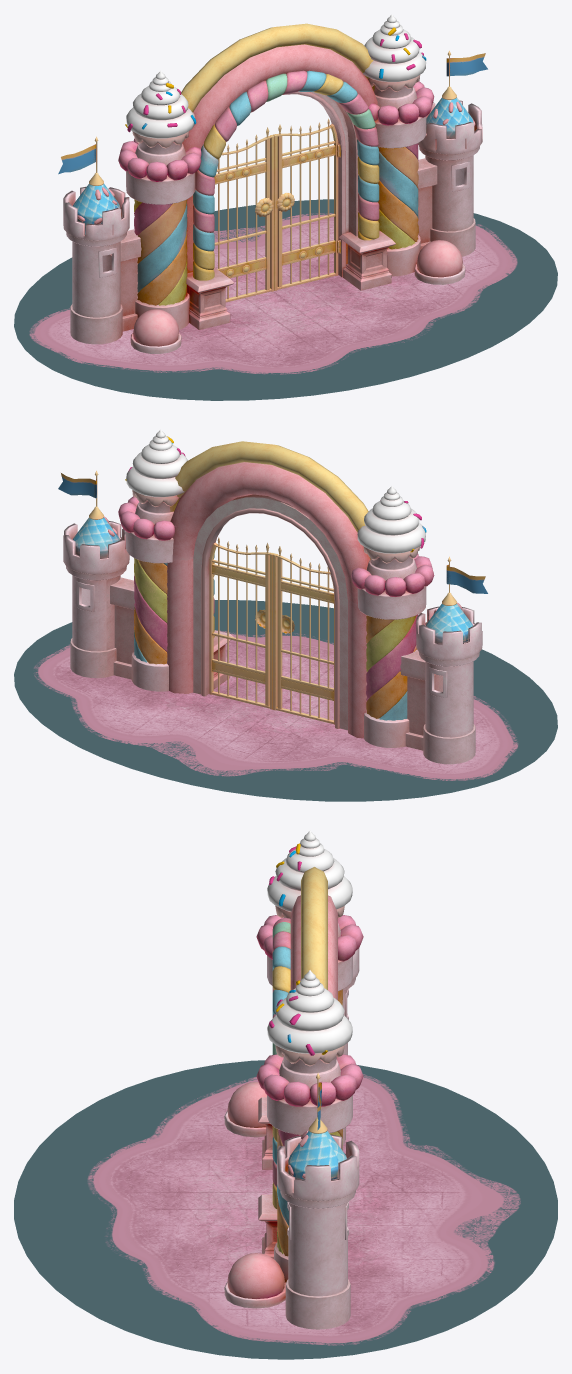
File: DaMen.fbx
The picture shows the model from 3 angles, top to bottom: view 1: azimuth 30°, elevation 25°; view 2: azimuth 150°, elevation 25°; view 3: azimuth 270°, elevation 25°; orthographic projection. The views are drawn at different scales.
Parts seen in each view (by area): view 1: dm_wall, dm_ground, dm_door_L, dm_door_R; view 2: dm_wall, dm_ground, dm_door_L, dm_door_R; view 3: dm_ground, dm_wall.
Part boxes in pixels (box(x1,y1,x2,y2)): dm_wall: box(58, 14, 487, 353); dm_ground: box(14, 199, 557, 400); dm_door_L: box(273, 118, 340, 290); dm_door_R: box(214, 127, 274, 302); dm_wall: box(58, 429, 487, 764); dm_ground: box(14, 600, 557, 801); dm_door_L: box(209, 537, 274, 709); dm_door_R: box(273, 546, 334, 724); dm_ground: box(14, 1060, 557, 1359); dm_wall: box(224, 830, 363, 1329).
Size of the model in its own units: 1411 by 717 by 1081.
